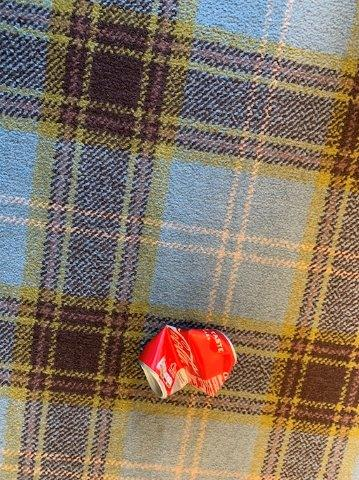kaleng: (139, 325, 236, 395)
